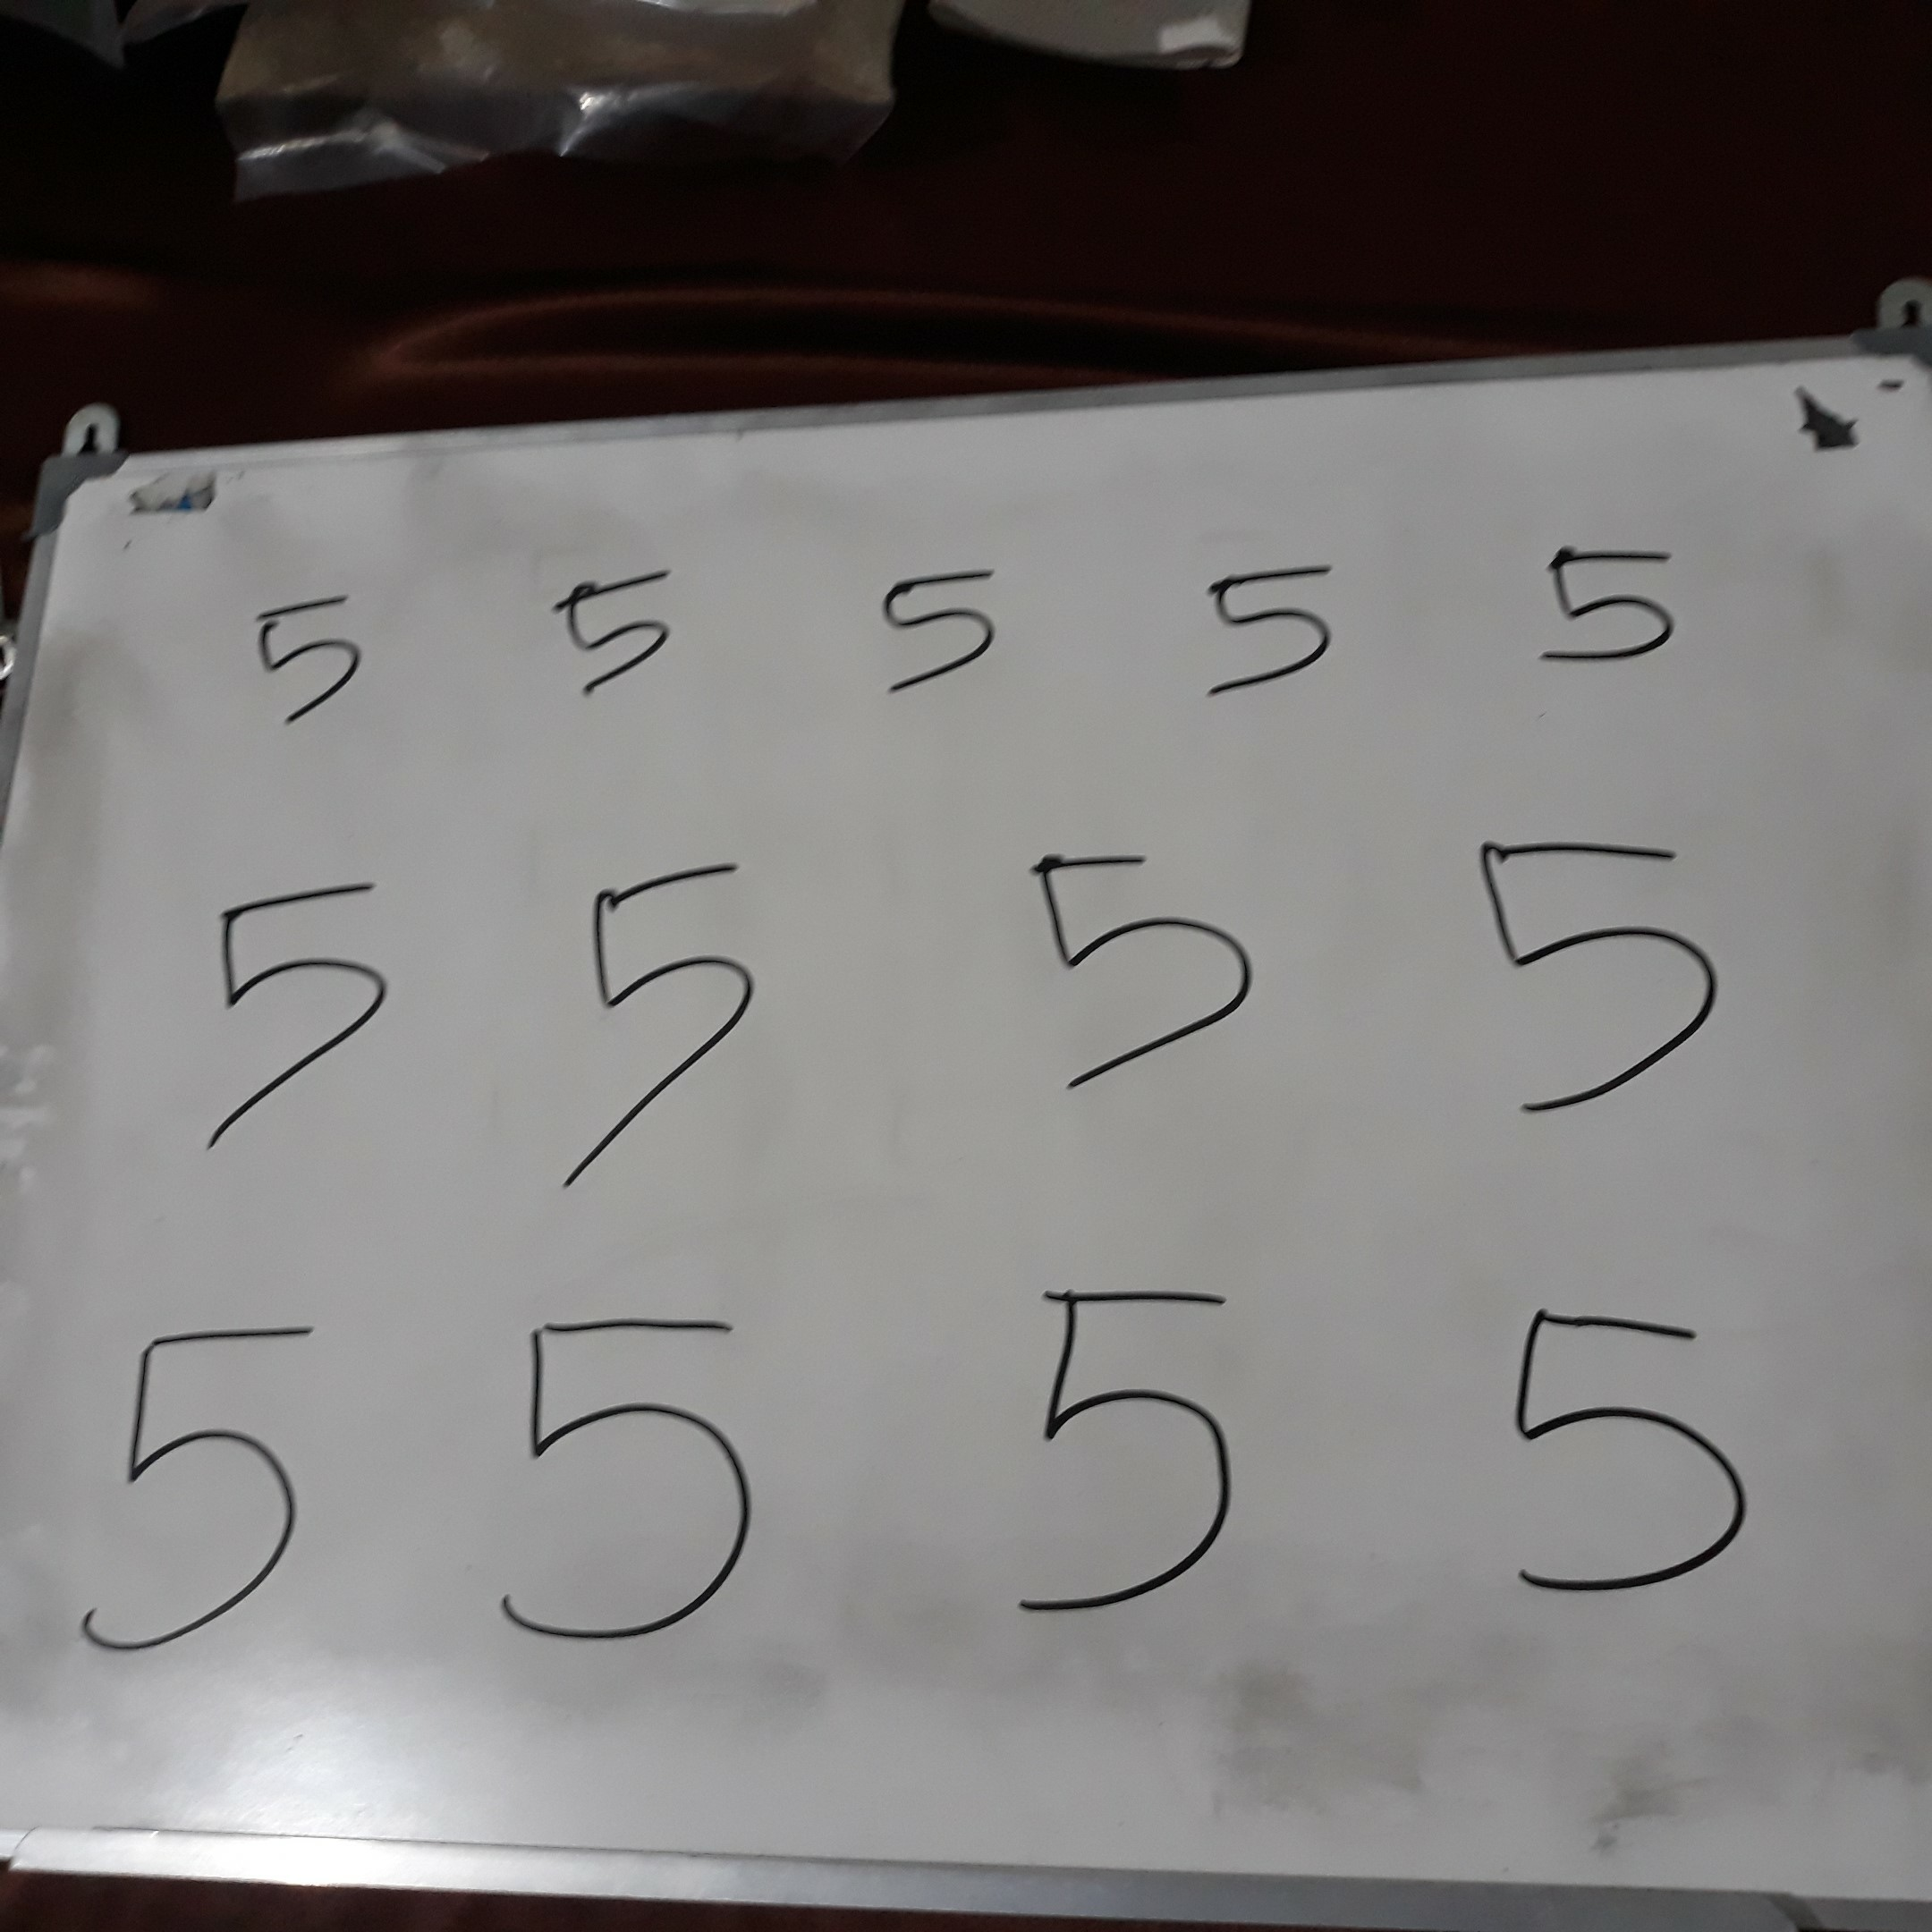num5: (57, 1304, 334, 1663), (492, 1302, 768, 1661), (997, 1276, 1274, 1635), (1482, 1282, 1761, 1609), (1464, 826, 1730, 1128), (554, 852, 762, 1188), (1023, 843, 1275, 1100), (191, 869, 401, 1155), (225, 582, 386, 737), (1530, 528, 1691, 682), (538, 554, 699, 708), (863, 555, 1024, 710), (1193, 550, 1354, 705)
